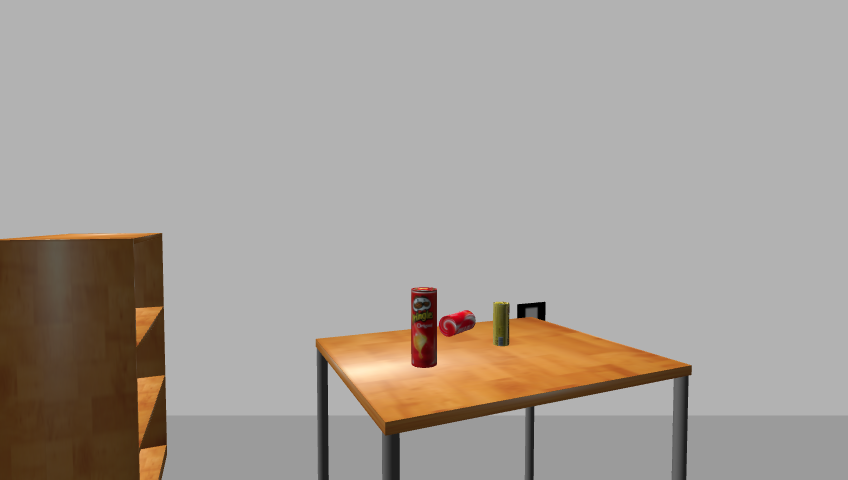aruco marker: (512, 301, 549, 325)
biscuits pack: (493, 302, 510, 348)
bookshelf: (0, 232, 173, 479)
coke can: (438, 309, 478, 339)
dinner table: (306, 318, 701, 480)
pringles can: (408, 286, 440, 370)
